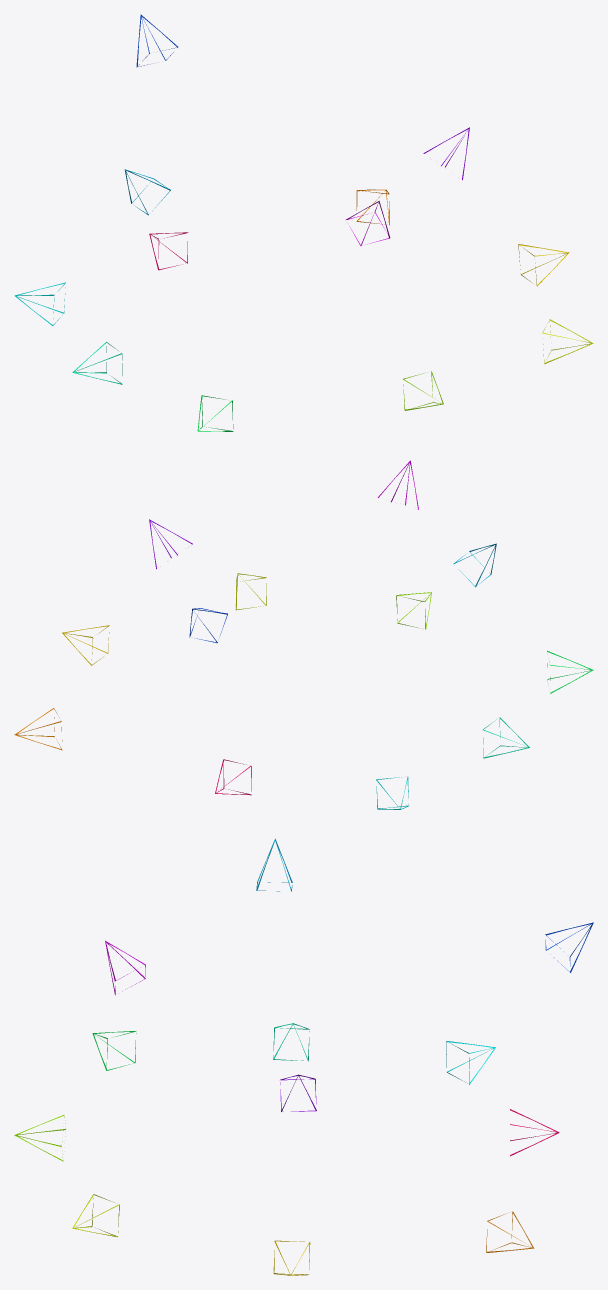
File: glbscene_66_All_maskbTrue_maskwTrue_camTrue_skyTrue_predDepthmap_and_Camera_Branch.glb
3 views of the same model, one above another, from view 1: azimuth 30°, elevation 25°; view 2: azimuth 150°, elevation 25°; view 3: azimuth 270°, elevation 25° (orthographic). The views are drawn at different scales.
Visible parts, largest first — view 1: world; view 2: world; view 3: world.
Boxes of the visible parts, box(x1,y1,x2,y2) form: world: box(14, 14, 593, 431); world: box(14, 460, 593, 809); world: box(14, 838, 593, 1275).
Bounding box in the file's own units: 1.93 × 0.8285 × 1.88.
